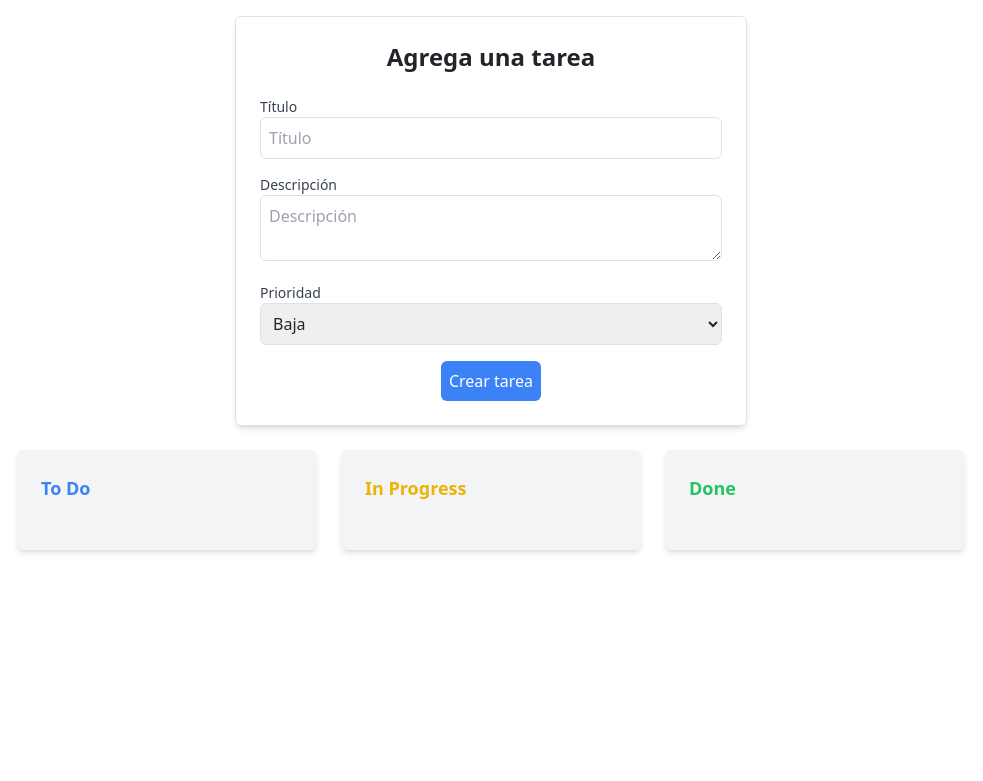
it: KanbanBoard › adds a task
The width and height of the screenshot is (983, 781).
Type "Test Task" into the field with placeholder "Título" at x=491, y=138, box [260, 117, 722, 159]
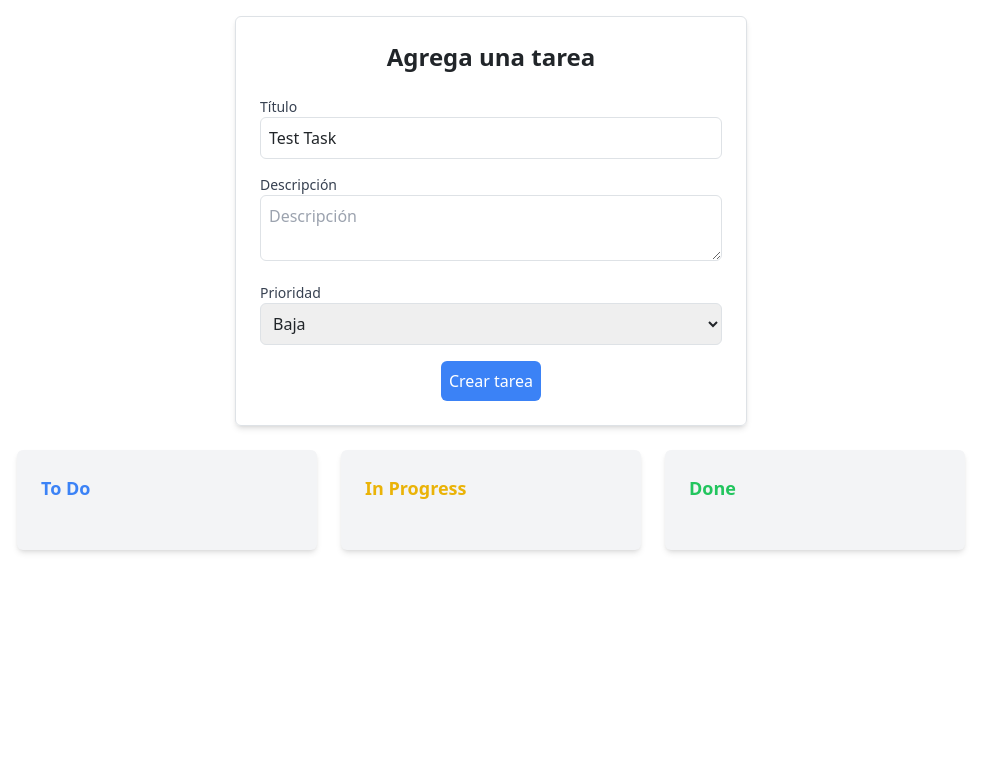
Type "Test Description" into the text box with placeholder "Descripción" at x=491, y=228, box [260, 195, 722, 261]
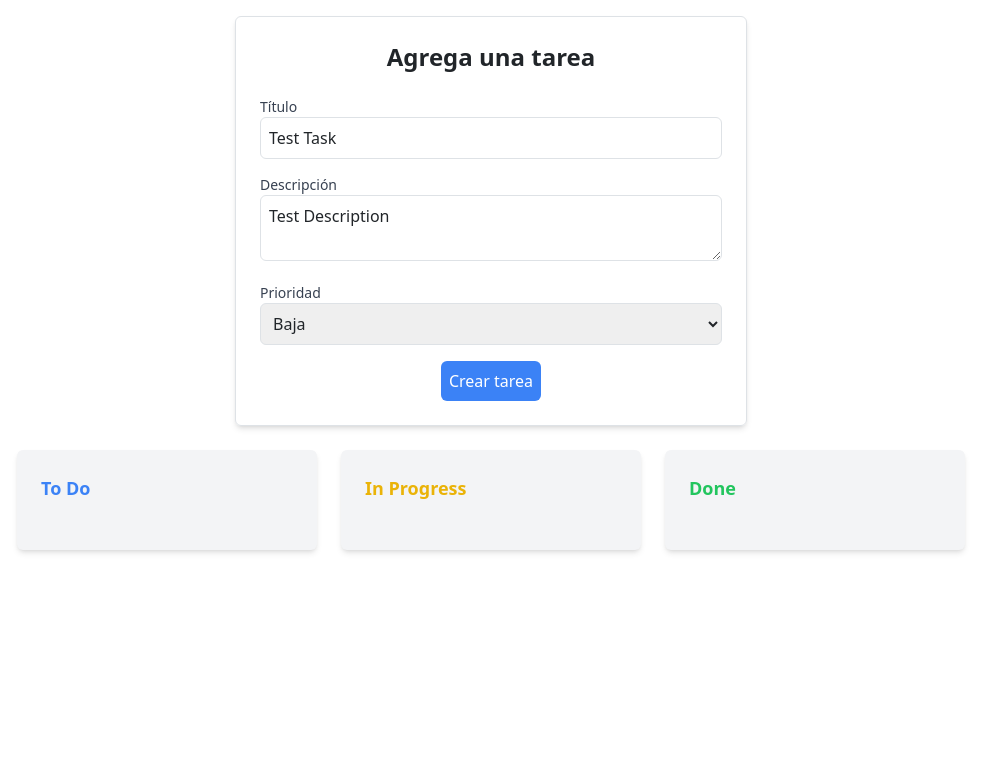
Select "Alta" in the dropdown labelled "Prioridad" at x=491, y=324, box [260, 303, 722, 345]
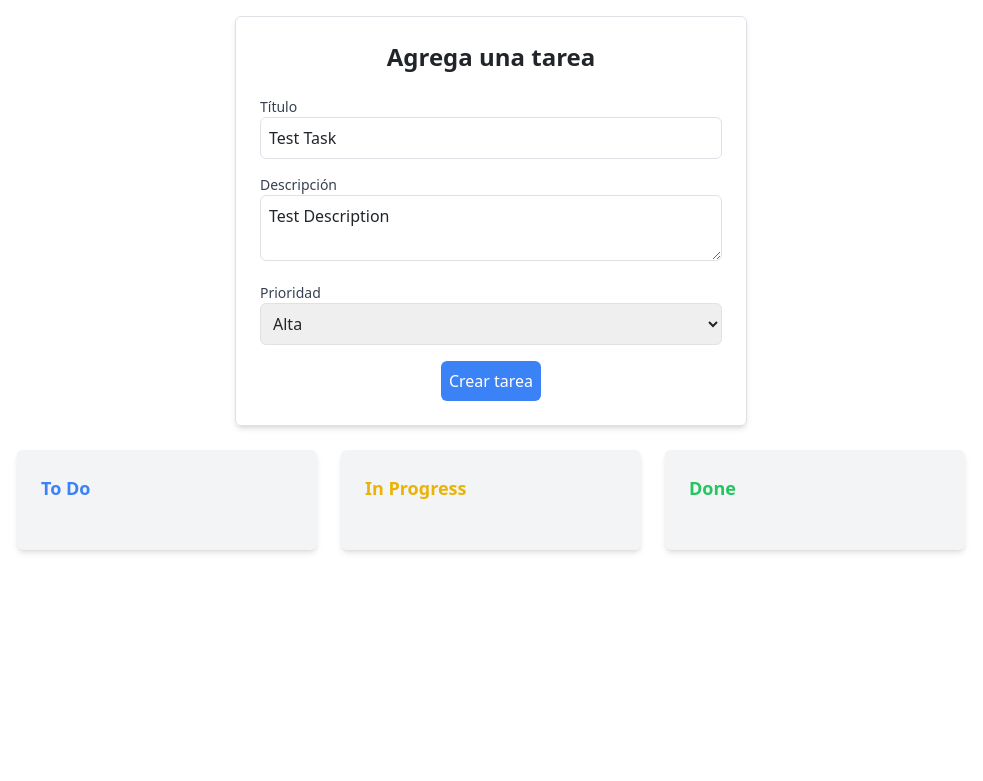
Click the button "Crear tarea" at x=491, y=381, box [441, 361, 541, 401]
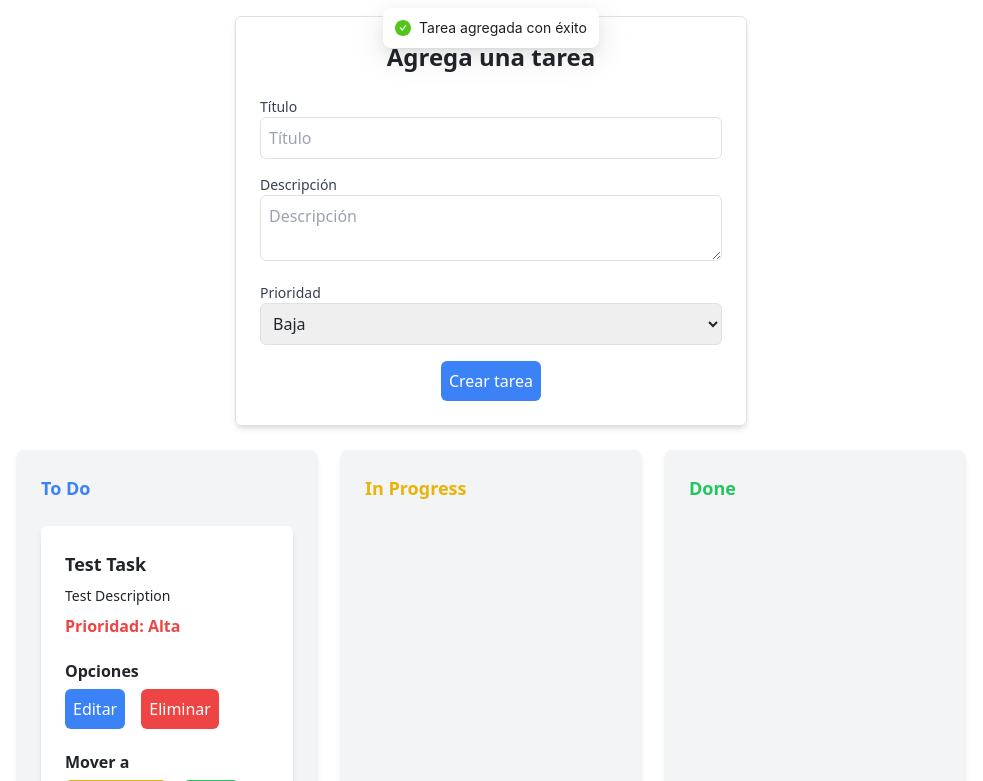
Now the heading "Test Task" is shown, box [65, 552, 146, 576]
